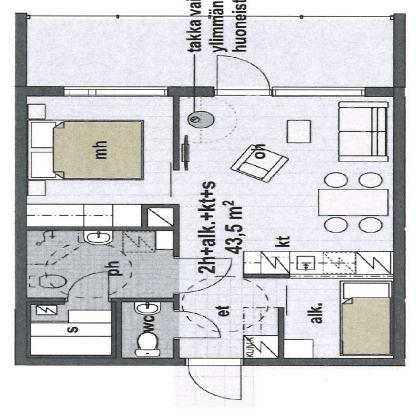door: (188, 359, 247, 400), (172, 257, 238, 292), (217, 51, 269, 95), (170, 312, 225, 344)
window: (62, 83, 170, 102), (269, 88, 361, 98)
zone: (176, 93, 392, 359), (30, 15, 393, 86), (26, 228, 177, 356), (24, 95, 177, 202), (114, 300, 173, 361)
